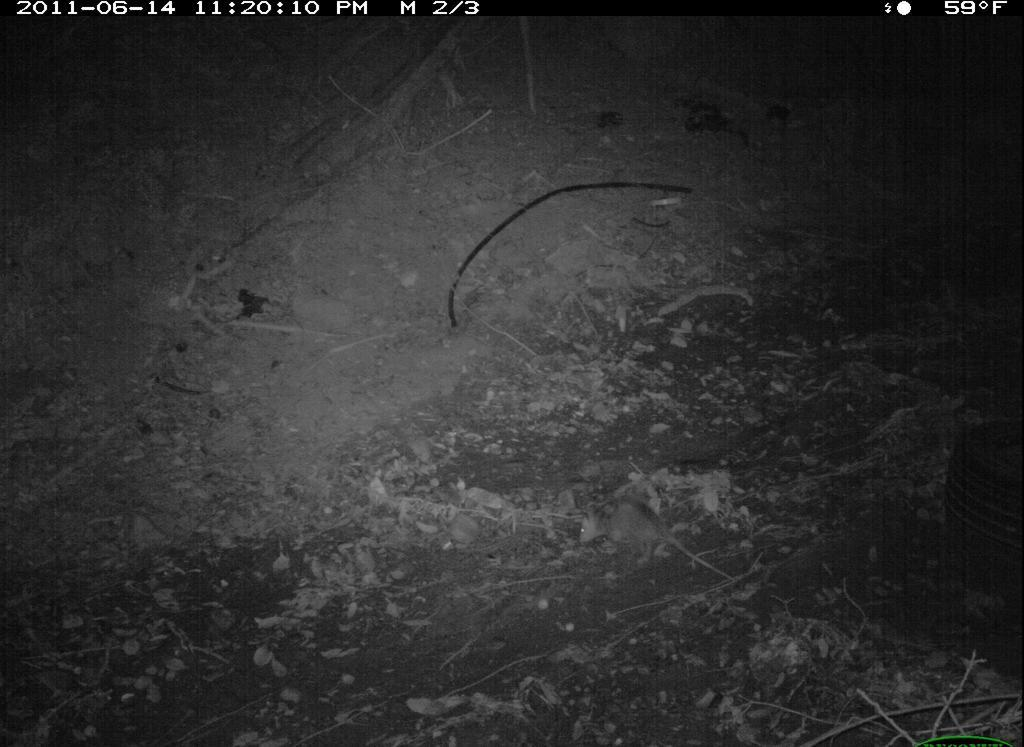opossum: (559, 493, 733, 592)
